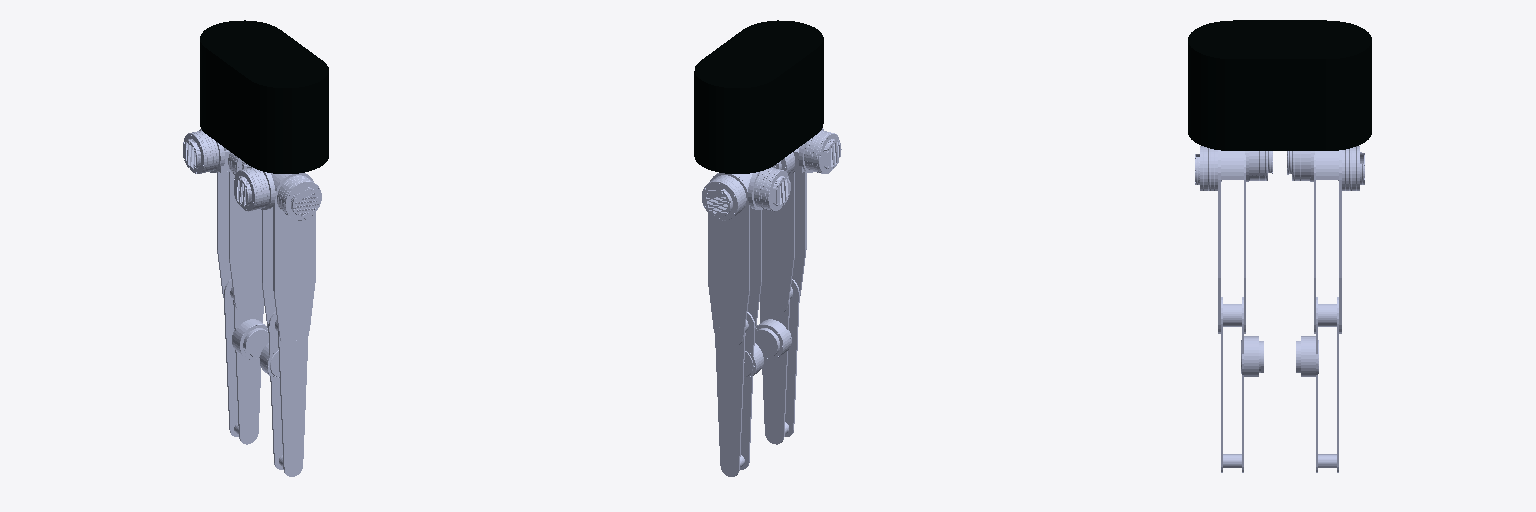
The robot description file, URDF, robot "leg00":
<?xml version="1.0" encoding="utf-8"?>
<!-- This URDF was automatically created by SolidWorks to URDF Exporter! Originally created by [author] ([email redacted]) 
     Commit Version: 1.6.0-4-g7f85cfe  Build Version: 1.6.7995.38578
     For more information, please see http://wiki.ros.org/sw_urdf_exporter -->
<robot
  name="leg00">
  <link
    name="base">
    <inertial>
      <origin
        xyz="2.394E-05 0 0.10736"
        rpy="0 0 0" />
      <mass
        value="17.42" />
      <inertia
        ixx="0.41416"
        ixy="2.9E-07"
        ixz="3.165E-05"
        iyy="0.2014"
        iyz="2E-08"
        izz="0.3867" />
    </inertial>
    <visual>
      <origin
        xyz="0 0 0"
        rpy="0 0 0" />
      <geometry>
        <mesh
          filename="meshes/base.STL" />
      </geometry>
      <material
        name="">
        <color
          rgba="0.02745 0.05098 0.05098 1" />
      </material>
    </visual>
    <collision>
      <origin
        xyz="0 0 0.125"
        rpy="0 0 0" />
          <geometry>
              <box size="0.2 0.38 0.25"/>
          </geometry>
    </collision>
  </link>
  <link
    name="L_hip">
    <inertial>
      <origin
        xyz="-0.075623 0 -0.059114"
        rpy="0 0 0" />
      <mass
        value="1.4936" />
      <inertia
        ixx="0.0044504"
        ixy="-2E-08"
        ixz="-0.0014576"
        iyy="0.0048828"
        iyz="1.5E-07"
        izz="0.0030898" />
    </inertial>
    <visual>
      <origin
        xyz="0 0 0"
        rpy="0 0 0" />
      <geometry>
        <mesh
          filename="meshes/L_hip.STL" />
      </geometry>
      <material
        name="">
        <color
          rgba="0.79216 0.81961 0.93333 1" />
      </material>
    </visual>
    <!-- <collision>
      <origin
        xyz="0 0 0"
        rpy="0 0 0" />

    </collision> -->
  </link>
  <joint
    name="L_hip_joint"
    type="revolute">
    <origin
      xyz="0 0.1175 -0.0237"
      rpy="0 0 0" />
    <parent
      link="base" />
    <child
      link="L_hip" />
    <axis
      xyz="0 0 1" />
    <limit                                                                                                                                                                                                                                                                                                                                                                                                                                                                                                                                                                            
      lower="-1.5"
      upper="1.5"
      effort="300"
      velocity="50" />
      <dynamics damping="0.0" friction="0.0"/>
  </joint>
  <link
    name="L_hip2">
    <inertial>
      <origin
        xyz="0.065812 -0.057927 -0.015122"
        rpy="0 0 0" />
      <mass
        value="1.3333" />
      <inertia
        ixx="0.0021859"
        ixy="0.00063143"
        ixz="0.00025969"
        iyy="0.0033125"
        iyz="-0.0001735"
        izz="0.0029107" />
    </inertial>
    <visual>
      <origin
        xyz="0 0 0"
        rpy="0 0 0" />
      <geometry>
        <mesh
          filename="meshes/L_hip2.STL" />
      </geometry>
      <material
        name="">
        <color
          rgba="0.79216 0.81961 0.93333 1" />
      </material>
    </visual>
    <!-- <collision>
      <origin
        xyz="0 0 0"
        rpy="0 0 0" />
      <geometry>
        <mesh
          filename="meshes/L_hip2.STL" />
      </geometry>
    </collision> -->
  </link>
  <joint
    name="L_hip2_joint"
    type="revolute">
    <origin
      xyz="-0.0733 0 -0.084"
      rpy="0 0 0" />
    <parent
      link="L_hip" />
    <child
      link="L_hip2" />
    <axis
      xyz="1 0 0" />
    <limit
      lower="-0.5"
      upper="1"
      effort="300"
      velocity="50" />
      <dynamics damping="0.0" friction="0.0"/>
  </joint>
  <link
    name="L_thigh">
    <inertial>
      <origin
        xyz="-6.1035E-06 0.019951 -0.10547"
        rpy="0 0 0" />
      <mass
        value="4.91" />
      <inertia
        ixx="0.091299"
        ixy="-1.5E-07"
        ixz="2.16E-06"
        iyy="0.09171"
        iyz="-0.0029195"
        izz="0.01036" />
    </inertial>
    <visual>
      <origin
        xyz="0 0 0"
        rpy="0 0 0" />
      <geometry>
        <mesh
          filename="meshes/L_thigh.STL" />
      </geometry>
      <material
        name="">
        <color
          rgba="0.79216 0.81961 0.93333 1" />
      </material>
    </visual>
    <collision>
      <origin
        xyz="0 0.0141 -0.175"
        rpy="0 0 0" />
      <geometry>                                  
          <cylinder radius="0.04" length="0.30"/>
      </geometry>
    </collision>
  </link>
  <joint
    name="L_thigh_joint"
    type="revolute">
    <origin
      xyz="0.078 -0.014084 -0.0185"
      rpy="0 0 0" />
    <parent
      link="L_hip2" />
    <child
      link="L_thigh" />
    <axis
      xyz="0 1 0" />
    <limit
      lower="-1.7"
      upper="0"
      effort="300"
      velocity="50" />
      <dynamics damping="0.0" friction="0.0"/>
  </joint>
  <link
    name="L_calf">
    <inertial>
      <origin
        xyz="4.0277E-05 0.016633 -0.14247"
        rpy="0 0 0" />
      <mass
        value="1.557" />
      <inertia
        ixx="0.015459"
        ixy="-0.000003"
        ixz="-0.000004"
        iyy="0.015806"
        iyz="-0.000121"
        izz="0.001066" />
    </inertial>
    <visual>
      <origin
        xyz="0 0 0"
        rpy="0 0 0" />
      <geometry>
        <mesh
          filename="meshes/L_calf.STL" />
      </geometry>
      <material
        name="">
        <color
          rgba="0.79216 0.81961 0.93333 1" />
      </material>
    </visual>
    <collision>
      <origin
        xyz="0 0.0141 -0.175"
        rpy="0 0 0" />
      <geometry>                                  
          <cylinder radius="0.04" length="0.27"/>
      </geometry>
    </collision>
  </link>
  <joint
    name="L_calf_joint"
    type="revolute">
    <origin
      xyz="0 0 -0.35"
      rpy="0 0 0" />
    <parent
      link="L_thigh" />
    <child
      link="L_calf" />
    <axis
      xyz="0 1 0" />
    <limit
      lower="0"
      upper="2"
      effort="300"
      velocity="50" />
      <dynamics damping="0.0" friction="0.0"/>
  </joint>
  <link
    name="L_toe">
    <inertial>
      <origin
        xyz="-0.0057329 0.015479 -0.044423"
        rpy="0 0 0" />
      <mass
        value="0.5" />
      <inertia
        ixx="0.00024557"
        ixy="-5E-07"
        ixz="0.00014186"
        iyy="0.0013105"
        iyz="2E-07"
        izz="0.0012091" />
    </inertial>
    <visual>
      <origin
        xyz="0 0 0"
        rpy="0 0 0" />
      <geometry>
        <mesh
          filename="meshes/L_toe.STL" />
      </geometry>
      <material
        name="">
        <color
          rgba="0.89804 0.91765 0.92941 1" />
      </material>
    </visual>
    <collision>
      <origin
        xyz="0 0 0"
        rpy="0 0 0" />
      <geometry>
        <mesh
          filename="meshes/L_toe.STL" />
      </geometry>
    </collision>
  </link>
  <joint
    name="L_toe_joint"
    type="revolute">
    <origin
      xyz="0 0 -0.35"
      rpy="0 0 0" />
    <parent
      link="L_calf" />
    <child
      link="L_toe" />
    <axis
      xyz="0 1 0" />
    <limit
      lower="-0.8"
      upper="0.8"
      effort="100"
      velocity="50" />
      <dynamics damping="0.0" friction="0.0"/>
  </joint>
  <link name="L_end_effector">
    <visual>
      <origin xyz="0 0 0" rpy="0 0 0" />
      <geometry>
        <sphere radius="0.0001" />
      </geometry>
      <material name=""> 
        <color rgba="0 0 0 0" />
      </material>
    </visual>
  </link>
  <joint name="L_end_joint"
    type="fixed">
    <origin
      xyz="0 0 -0.072"
      rpy="0 0 0" />
    <parent
      link="L_toe" />
    <child
      link="L_end_effector" />
    <axis
      xyz="0 0 0" />
    <limit
      lower="0"
      upper="0"
      effort="0"
      velocity="0" />
  </joint>
  <link
    name="R_hip">
    <inertial>
      <origin
        xyz="-0.075623 0 -0.059114"
        rpy="0 0 0" />
      <mass
        value="1.4936" />
      <inertia
        ixx="0.0044504"
        ixy="-2E-08"
        ixz="-0.0014576"
        iyy="0.0048828"
        iyz="1.5E-07"
        izz="0.0030898" />
    </inertial>
    <visual>
      <origin
        xyz="0 0 0"
        rpy="0 0 0" />
      <geometry>
        <mesh
          filename="meshes/R_hip.STL" />
      </geometry>
      <material
        name="">
        <color
          rgba="0.79216 0.81961 0.93333 1" />
      </material>
    </visual>
    <!-- <collision>
      <origin
        xyz="0 0 0"
        rpy="0 0 0" />
      <geometry>
        <mesh
          filename="meshes/R_hip.STL" />
      </geometry>
    </collision> -->
  </link>
  <joint
    name="R_hip_joint"
    type="revolute">
    <origin
      xyz="0 -0.1175 -0.0237"
      rpy="0 0 0" />
    <parent
      link="base" />
    <child
      link="R_hip" />
    <axis
      xyz="0 0 1" />
    <limit
      lower="-1.5"
      upper="1.5"
      effort="300"
      velocity="50" />
      <dynamics damping="0.0" friction="0.0"/>
  </joint>
  <link
    name="R_hip2">
    <inertial>
      <origin
        xyz="0.065812 0.057927 -0.015122"
        rpy="0 0 0" />
      <mass
        value="1.3333" />
      <inertia
        ixx="0.0021859"
        ixy="-0.0006314"
        ixz="0.00026006"
        iyy="0.0033125"
        iyz="0.0001735"
        izz="0.0029107" />
    </inertial>
    <visual>
      <origin
        xyz="0 0 0"
        rpy="0 0 0" />
      <geometry>
        <mesh
          filename="meshes/R_hip2.STL" />
      </geometry>
      <material
        name="">
        <color
          rgba="0.79216 0.81961 0.93333 1" />
      </material>
    </visual>
    <!-- <collision>
      <origin
        xyz="0 0 0"
        rpy="0 0 0" />
      <geometry>
        <mesh
          filename="meshes/R_hip2.STL" />
      </geometry>
    </collision> -->
  </link>
  <joint
    name="R_hip2_joint"
    type="revolute">
    <origin
      xyz="-0.0733 0 -0.084"
      rpy="0 0 0" />
    <parent
      link="R_hip" />
    <child
      link="R_hip2" />
    <axis
      xyz="1 0 0" />
    <limit
      lower="-1"
      upper="0.5"
      effort="300"
      velocity="50" />
      <dynamics damping="0.0" friction="0.0"/>
  </joint>
  <link
    name="R_thigh">
    <inertial>
      <origin
        xyz="6.1035E-06 -0.019951 -0.10547"
        rpy="0 0 0" />
      <mass
        value="4.91" />
      <inertia
        ixx="0.091299"
        ixy="-1.5E-07"
        ixz="-2.16E-06"
        iyy="0.09171"
        iyz="0.0029195"
        izz="0.01036" />
    </inertial>
    <visual>
      <origin
        xyz="0 0 0"
        rpy="0 0 0" />
      <geometry>
        <mesh
          filename="meshes/R_thigh.STL" />
      </geometry>
      <material
        name="">
        <color
          rgba="0.79216 0.81961 0.93333 1" />
      </material>
    </visual>
    <collision>
      <origin
        xyz="0 -0.0141 -0.175"
        rpy="0 0 0" />
      <geometry>                                  
          <cylinder radius="0.04" length="0.30"/>
      </geometry>
    </collision>
  </link>
  <joint
    name="R_thigh_joint"
    type="revolute">
    <origin
      xyz="0.078 0.014084 -0.0185"
      rpy="0 0 0" />
    <parent
      link="R_hip2" />
    <child
      link="R_thigh" />
    <axis
      xyz="0 1 0" />
    <limit
      lower="-1.7"
      upper="0"
      effort="300"
      velocity="50" />
      <dynamics damping="0.0" friction="0.0"/>
  </joint>
  <link
    name="R_calf">
    <inertial>
      <origin
        xyz="-4.0277E-05 -0.016633 -0.14247"
        rpy="0 0 0" />
      <mass
        value="1.557" />
      <inertia
        ixx="0.015459"
        ixy="-0.000003"
        ixz="0.000004"
        iyy="0.015806"
        iyz="0.000121"
        izz="0.001066" />
    </inertial>
    <visual>
      <origin
        xyz="0 0 0"
        rpy="0 0 0" />
      <geometry>
        <mesh
          filename="meshes/R_calf.STL" />
      </geometry>
      <material
        name="">
        <color
          rgba="0.79216 0.81961 0.93333 1" />
      </material>
    </visual>
    <collision>
      <origin
        xyz="0 -0.0141 -0.175"
        rpy="0 0 0" />
      <geometry>                                  
          <cylinder radius="0.04" length="0.30"/>
      </geometry>
    </collision>
  </link>
  <joint
    name="R_calf_joint"
    type="revolute">
    <origin
      xyz="0 0 -0.35"
      rpy="0 0 0" />
    <parent
      link="R_thigh" />
    <child
      link="R_calf" />
    <axis
      xyz="0 1 0" />
    <limit
      lower="0"
      upper="2"
      effort="300"
      velocity="50" />
      <dynamics damping="0.0" friction="0.0"/>
  </joint>
  <link
    name="R_toe">
    <inertial>
      <origin
        xyz="-0.0057329 -0.015521 -0.044423"
        rpy="0 0 0" />
      <mass
        value="0.5" />
      <inertia
        ixx="0.00024557"
        ixy="-5E-07"
        ixz="0.00014186"
        iyy="0.0013105"
        iyz="2E-07"
        izz="0.0012091" />
    </inertial>
    <visual>
      <origin
        xyz="0 0 0"
        rpy="0 0 0" />
      <geometry>
        <mesh
          filename="meshes/R_toe.STL" />
      </geometry>
      <material
        name="">
        <color
          rgba="0.89804 0.91765 0.92941 1" />
      </material>
    </visual>
    <collision>
      <origin
        xyz="0 0 0"
        rpy="0 0 0" />
      <geometry>
        <mesh
          filename="meshes/R_toe.STL" />
      </geometry>
    </collision>
  </link>
  <joint
    name="R_toe_joint"
    type="revolute">
    <origin
      xyz="0 0 -0.35"
      rpy="0 0 0" />
    <parent
      link="R_calf" />
    <child
      link="R_toe" />
    <axis
      xyz="0 1 0" />
    <limit
      lower="-0.8"
      upper="0.8"
      effort="100"
      velocity="50" />
      <dynamics damping="0.0" friction="0.0"/>
  </joint>
  <link name="R_end_effector">
    <visual>
      <origin xyz="0 0 0" rpy="0 0 0" />
      <geometry>
        <sphere radius="0.0001" />
      </geometry>
      <material name=""> 
        <color rgba="0 0 0 0" />
      </material>
    </visual>
  </link>
  <joint name="R_end_joint"
    type="fixed">
    <origin
      xyz="0 0 -0.072"
      rpy="0 0 0" />
    <parent
      link="R_toe" />
    <child
      link="R_end_effector" />
    <axis
      xyz="0 0 0" />
    <limit
      lower="0"
      upper="0"
      effort="0"
      velocity="0" />
  </joint>
</robot>

--- Render facts (derived) ---
3 views of the same robot in one strip: view 1: azimuth 30°, elevation 25°; view 2: azimuth 150°, elevation 25°; view 3: azimuth 270°, elevation 25° (orthographic).
Model leg00 with 13 links and 12 joints (10 revolute, 2 fixed), rooted at base, posed every joint at zero.
Links seen in each view (by area): view 1: base, R_thigh, R_calf, L_thigh, L_calf, R_hip, L_hip; view 2: base, L_thigh, L_calf, R_thigh, R_calf, L_hip, R_hip; view 3: base, L_thigh, R_thigh, L_calf, R_calf, L_hip2, R_hip2.
Link boxes in pixels (x1=…): base: x1=200, y1=20, x2=328, y2=173; R_thigh: x1=262, y1=173, x2=321, y2=346; R_calf: x1=260, y1=311, x2=308, y2=476; L_thigh: x1=217, y1=148, x2=263, y2=314; L_calf: x1=224, y1=279, x2=268, y2=444; R_hip: x1=234, y1=167, x2=275, y2=211; L_hip: x1=183, y1=129, x2=224, y2=173; base: x1=694, y1=20, x2=823, y2=173; L_thigh: x1=702, y1=173, x2=761, y2=346; L_calf: x1=715, y1=312, x2=763, y2=476; R_thigh: x1=760, y1=147, x2=806, y2=314; R_calf: x1=755, y1=279, x2=799, y2=444; L_hip: x1=748, y1=167, x2=790, y2=211; R_hip: x1=798, y1=128, x2=841, y2=173; base: x1=1188, y1=20, x2=1371, y2=150; L_thigh: x1=1310, y1=146, x2=1364, y2=333; R_thigh: x1=1195, y1=146, x2=1249, y2=333; L_calf: x1=1296, y1=297, x2=1338, y2=472; R_calf: x1=1221, y1=297, x2=1263, y2=472; L_hip2: x1=1287, y1=151, x2=1314, y2=181; R_hip2: x1=1245, y1=151, x2=1272, y2=181.
Size in the robot's own frame: 0.233 by 0.4 by 1.08 metres.
9 mesh visuals loaded from 11 distinct referenced files (9 binary STL); not drawn: 2 (reference not matched to a file when rendering).
